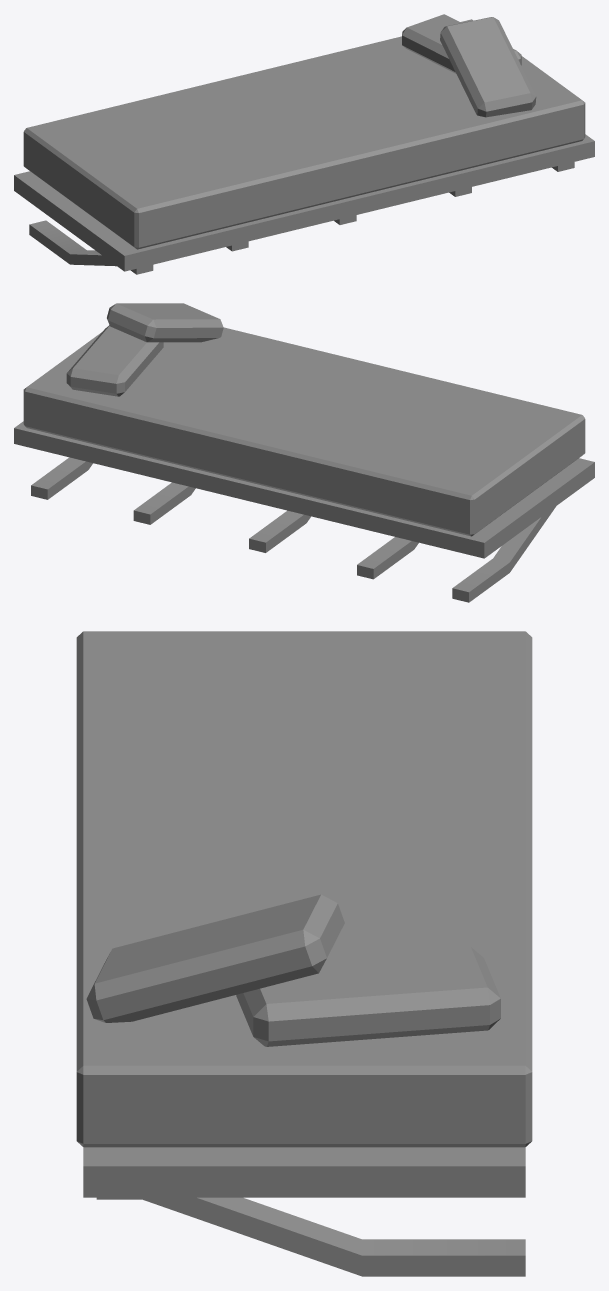
The model's file is bed_B.FBX.
The picture shows the model from 3 angles, top to bottom: view 1: azimuth 30°, elevation 25°; view 2: azimuth 150°, elevation 25°; view 3: azimuth 270°, elevation 25°; orthographic projection. The views are drawn at different scales.
Visible parts, largest first — view 1: bed_B; view 2: bed_B; view 3: bed_B.
Boxes of the visible parts, box(x1,y1,x2,y2) form: bed_B: box(14, 14, 594, 274); bed_B: box(14, 303, 594, 602); bed_B: box(76, 631, 532, 1276).
Size of the model in its own units: 116 by 37.51 by 48.74.
